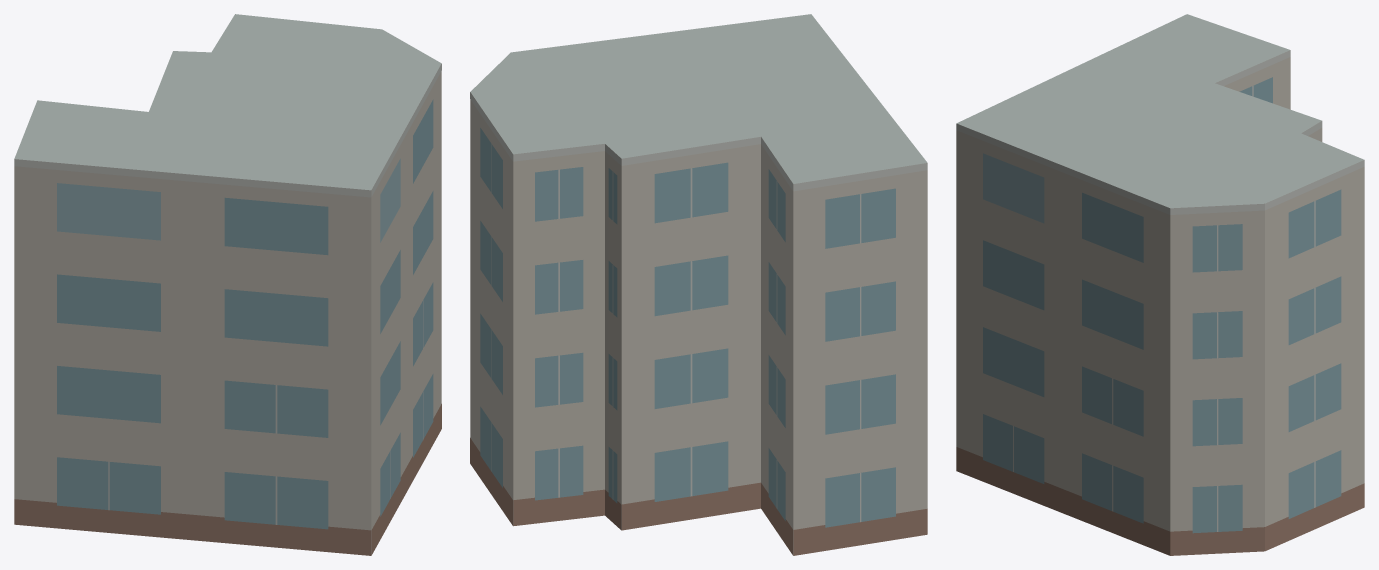
Rendered from survey-upis-32525786.glb.
3 views of the same model, side by side, from view 1: azimuth 30°, elevation 25°; view 2: azimuth 150°, elevation 25°; view 3: azimuth 270°, elevation 25° (orthographic). The views are drawn at different scales.
Parts seen in each view (by area): view 1: survey-upis-32525786.tmp; view 2: survey-upis-32525786.tmp; view 3: survey-upis-32525786.tmp.
Boxes of the visible parts, x1,y1,x2,y2 form: survey-upis-32525786.tmp: (14,14,441,555); survey-upis-32525786.tmp: (470,14,927,555); survey-upis-32525786.tmp: (956,14,1364,555).
Bounding box in the file's own units: 14.99 × 12.5 × 13.32.
